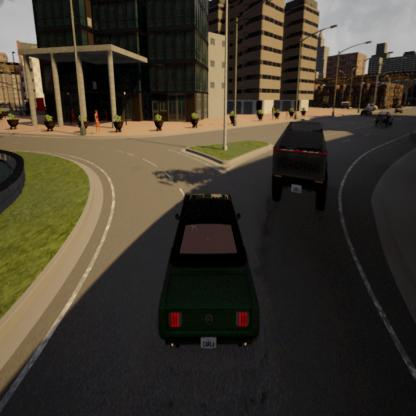Cars: (160, 192, 261, 353), (270, 112, 334, 213), (375, 110, 397, 130)
Pedestrian: (93, 106, 102, 137)
